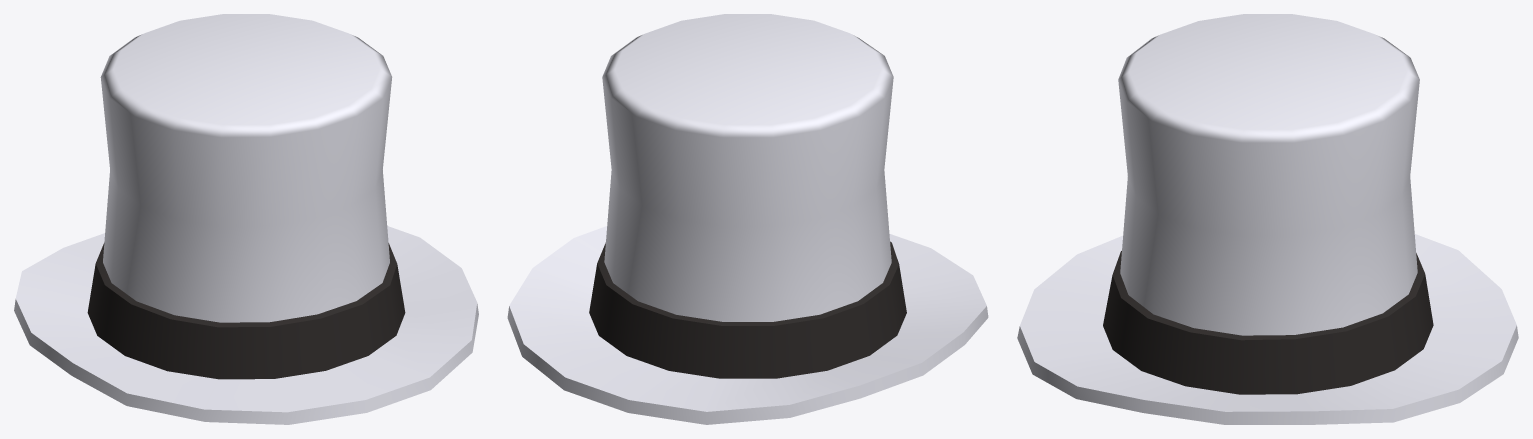
Rendered from Hat_02_03.fbx.
3 views of the same model, side by side, from view 1: azimuth 30°, elevation 25°; view 2: azimuth 150°, elevation 25°; view 3: azimuth 270°, elevation 25° (orthographic). The views are drawn at different scales.
Visible parts, largest first — view 1: Hat_02_03; view 2: Hat_02_03; view 3: Hat_02_03.
Part boxes in pixels (x1,y1,x2,y2): Hat_02_03: (14,14,478,424); Hat_02_03: (507,14,988,424); Hat_02_03: (1017,14,1518,424).
Bounding box in the file's own units: 51.45 × 32.28 × 54.67.
